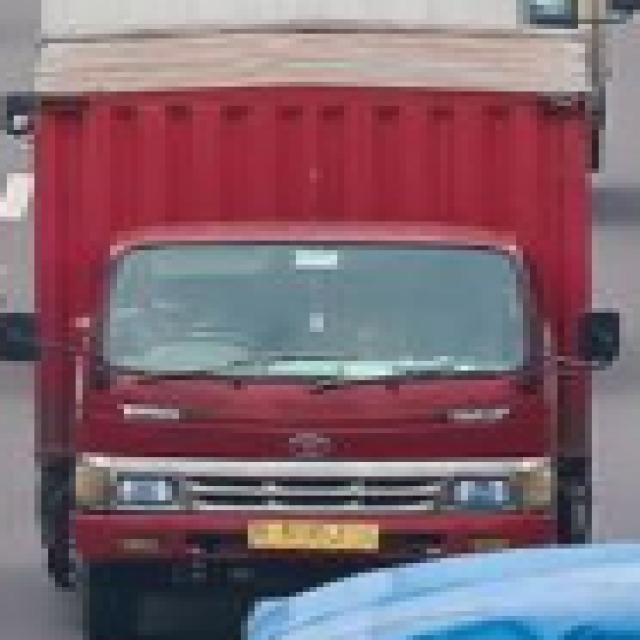truck: (23, 33, 624, 587)
